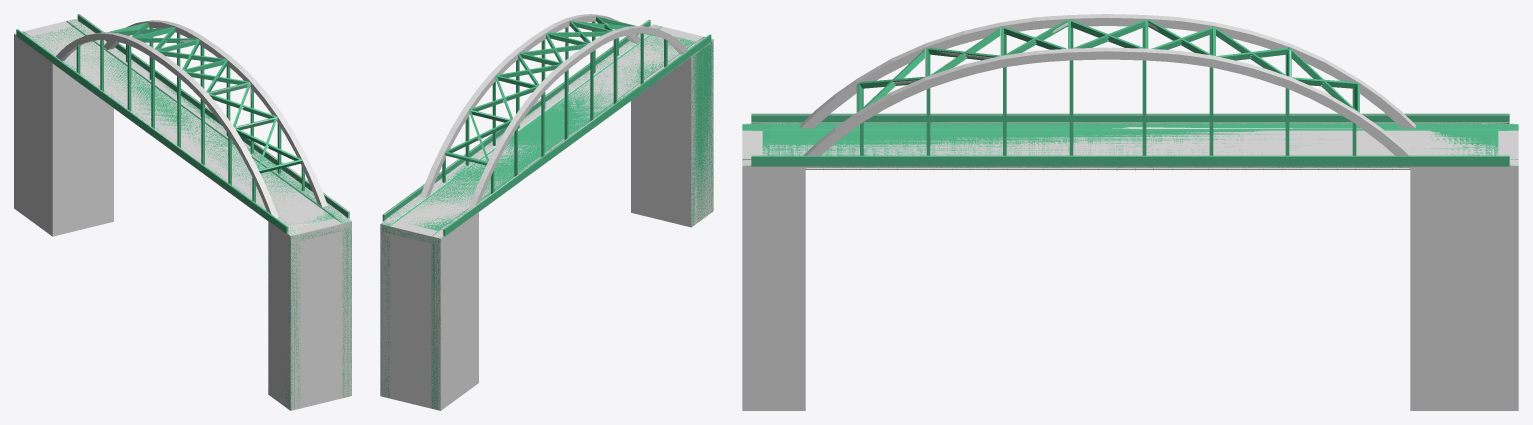
The model's file is eca_bld_bridge_80m.dae.
3 renders of one model, left to right at view 1: azimuth 30°, elevation 25°; view 2: azimuth 150°, elevation 25°; view 3: azimuth 270°, elevation 25°, orthographic. The views are drawn at different scales.
Visible parts, largest first — view 1: ind_bld_a300, ind_bld_a20, Colmesh-1, ind_bld_a800; view 2: ind_bld_a300, Colmesh-1, ind_bld_a20, ind_bld_a800; view 3: ind_bld_a300, Colmesh-1, ind_bld_a20, ind_bld_a800.
Boxes of the visible parts, box(x1,y1,x2,y2) form: ind_bld_a300: box(14, 15, 351, 410); ind_bld_a20: box(14, 21, 351, 409); Colmesh-1: box(15, 14, 351, 410); ind_bld_a800: box(21, 15, 345, 224); ind_bld_a300: box(380, 14, 713, 410); Colmesh-1: box(380, 16, 713, 409); ind_bld_a20: box(380, 26, 713, 410); ind_bld_a800: box(383, 14, 709, 223); ind_bld_a300: box(742, 14, 1518, 410); Colmesh-1: box(742, 20, 1518, 167); ind_bld_a20: box(742, 130, 1518, 410); ind_bld_a800: box(754, 14, 1505, 170).
Bounding box in the file's own units: 11.32 × 86 × 43.69.
